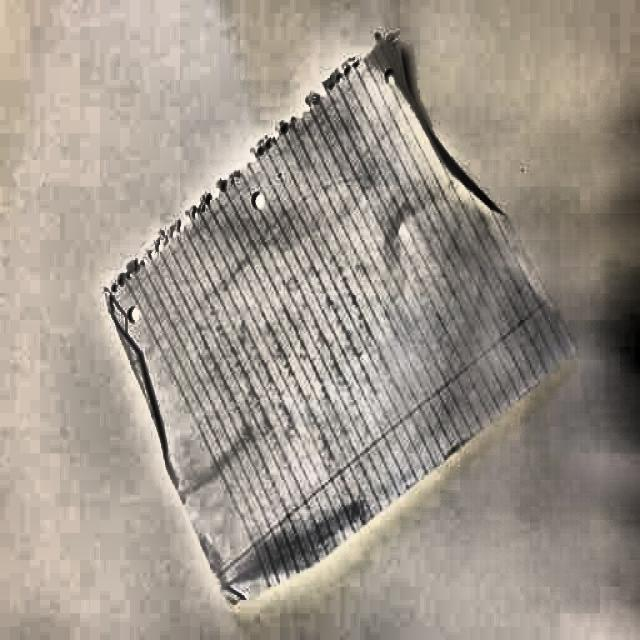paper: (100, 29, 572, 604)
